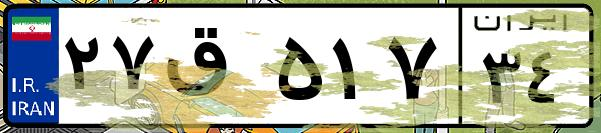1: (330, 28, 385, 110)
2: (57, 26, 110, 100)
3: (475, 38, 525, 113)
4: (525, 38, 570, 115)
5: (270, 28, 330, 110)
7: (385, 28, 445, 110), (110, 28, 158, 98)
ق: (158, 20, 270, 120)
